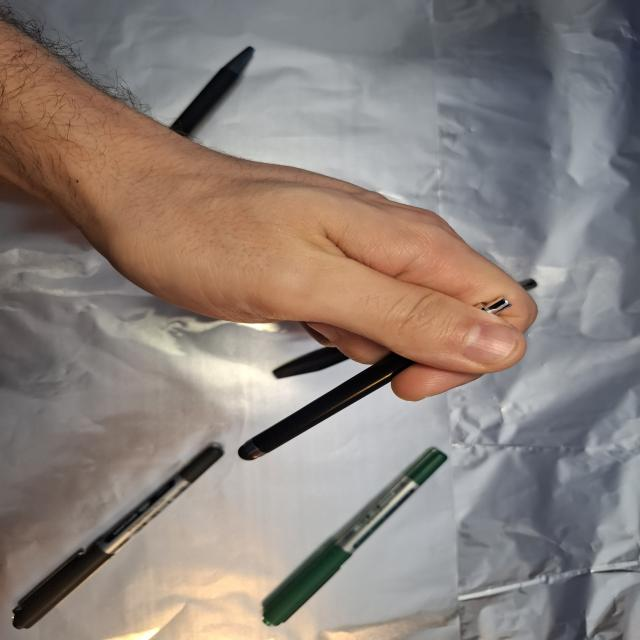glove_off: (59, 129, 541, 403)
